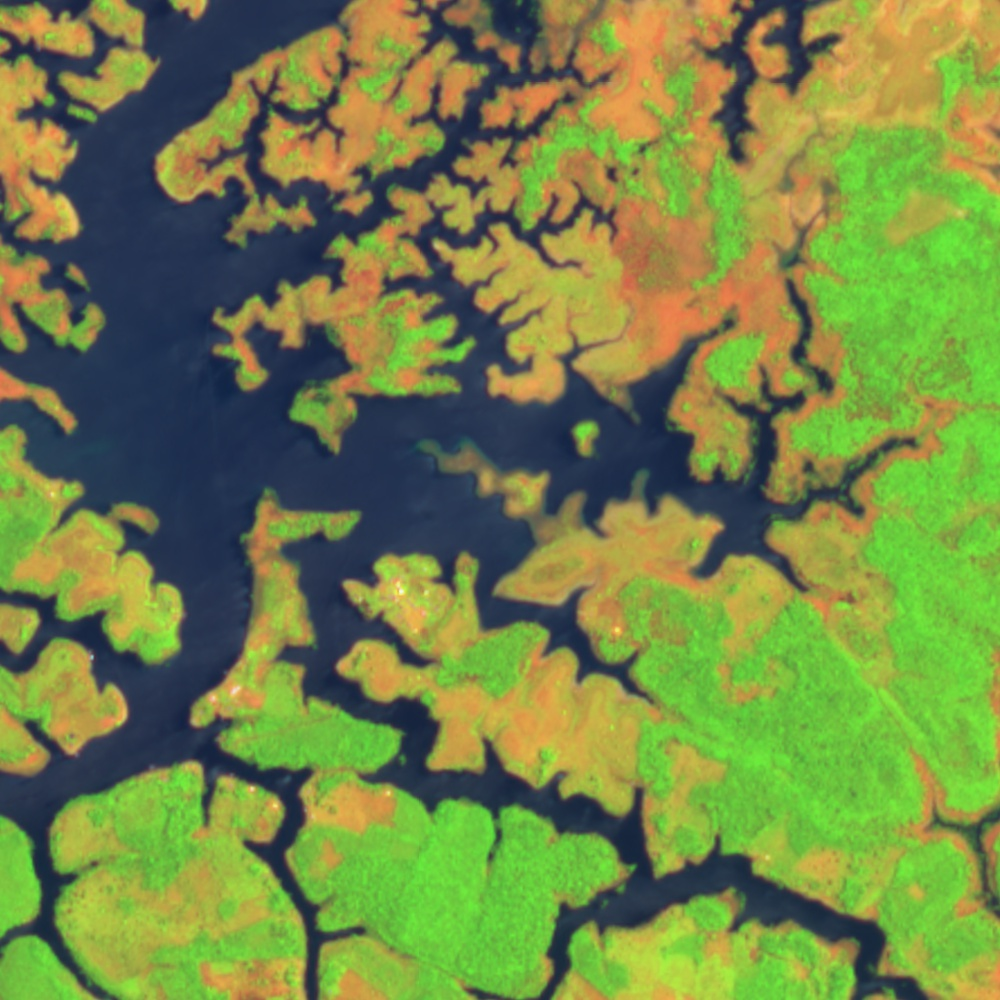legal: (218, 1, 1000, 456), (604, 385, 970, 687), (350, 546, 712, 850), (1, 1, 215, 438), (1, 464, 188, 776), (184, 486, 363, 755), (47, 844, 257, 991), (545, 897, 745, 1000), (199, 911, 408, 1000), (725, 825, 905, 926), (900, 745, 1000, 925)
